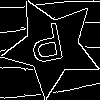P: (27, 22, 69, 73)
